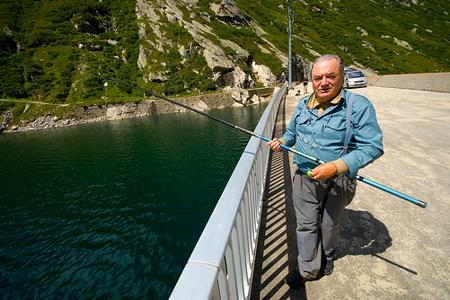person: (267, 55, 386, 287)
